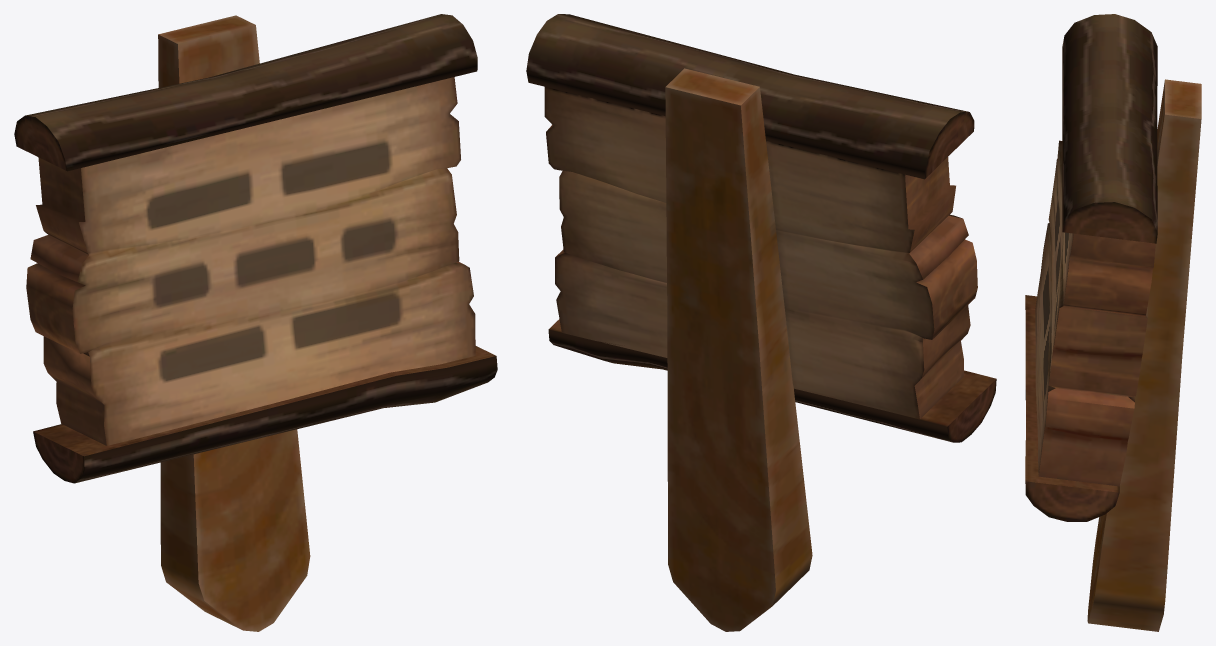
Rendered from Sign.obj.
3 views of the same model, side by side, from view 1: azimuth 30°, elevation 25°; view 2: azimuth 150°, elevation 25°; view 3: azimuth 270°, elevation 25° (orthographic). The views are drawn at different scales.
Visible parts, largest first — view 1: Signboard__MI_Signboard_01; view 2: Signboard__MI_Signboard_01; view 3: Signboard__MI_Signboard_01.
Boxes of the visible parts, left/top/right/bottom form: Signboard__MI_Signboard_01: left=14, top=14, right=497, bottom=631; Signboard__MI_Signboard_01: left=526, top=14, right=996, bottom=631; Signboard__MI_Signboard_01: left=1025, top=14, right=1201, bottom=631.
Bounding box in the file's own units: 0.4764 × 0.628 × 0.1882.
